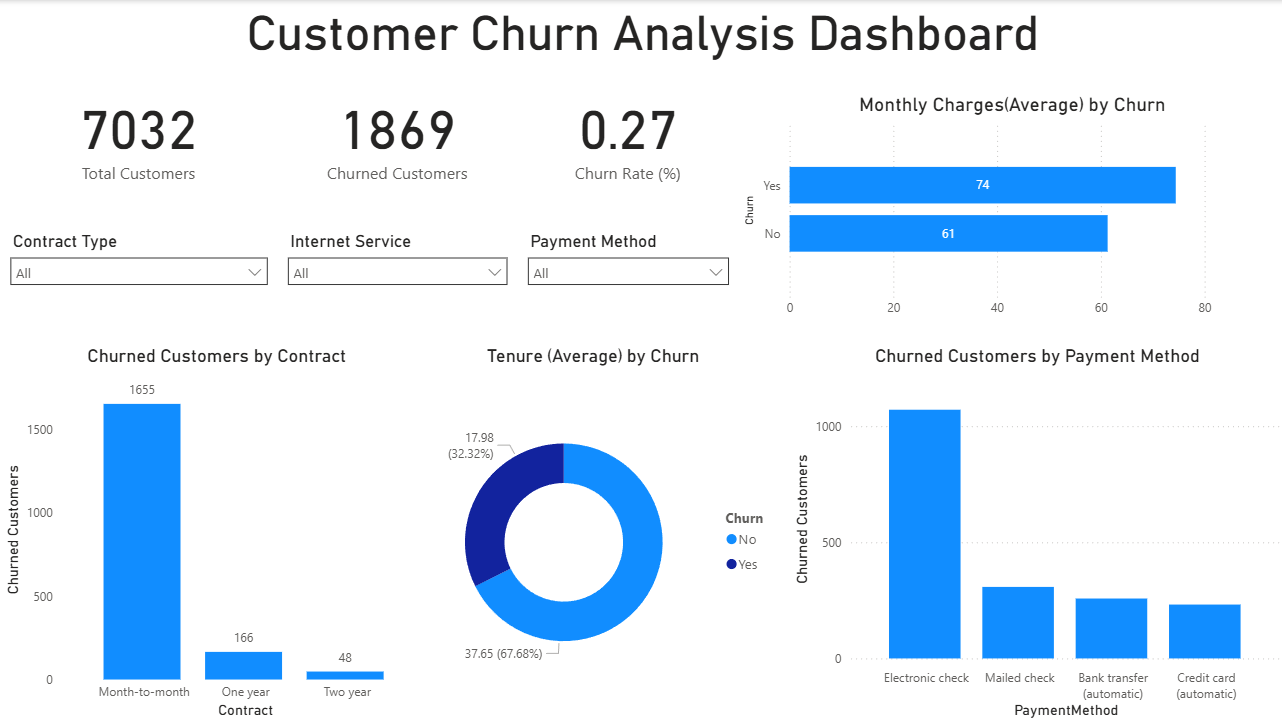

The page's visual inventory and layout, read from the dashboard file:
{"tool":"powerbi","page":{"name":"Page 1","canvas":[1280,720],"ordinal":0},"visuals":[{"type":"textbox","box":[0,0,1280,72.1],"z":0},{"type":"card","fields":{"Values":["Telco-Customer-Churn.Total Customers"]},"box":[0,72.1,276.2,123.2],"z":1},{"type":"card","fields":{"Values":["Telco-Customer-Churn.Churned Customers"]},"box":[276.2,72.1,238.8,123.2],"z":2},{"type":"card","fields":{"Values":["Telco-Customer-Churn.Churn Rate (%)"]},"box":[515,72.1,220.2,123.2],"z":3},{"type":"slicer","fields":{"Values":["Telco-Customer-Churn.Contract"]},"box":[0,225.2,276.2,99.5],"z":4},{"type":"slicer","fields":{"Values":["Telco-Customer-Churn.InternetService"]},"box":[276.2,225.2,238.8,99.5],"z":5},{"type":"clusteredColumnChart","fields":{"Y":["Telco-Customer-Churn.Churned Customers"],"Category":["Telco-Customer-Churn.Contract"]},"box":[0,343.3,431.7,376.9],"z":6},{"type":"clusteredBarChart","title":"Monthly Charges(Average) by Churn","fields":{"Category":["Telco-Customer-Churn.Churn"],"Y":["Avg(Telco-Customer-Churn.MonthlyCharges)"]},"box":[735.2,93.3,544.9,231.4],"z":8},{"type":"donutChart","title":"Tenure (Average) by Churn","fields":{"Category":["Telco-Customer-Churn.Churn"],"Y":["Avg(Telco-Customer-Churn.tenure)"]},"box":[395.6,343.3,389.4,376.9],"z":9},{"type":"clusteredColumnChart","title":"Churned Customers by Payment Method","fields":{"Category":["Telco-Customer-Churn.PaymentMethod"],"Y":["Telco-Customer-Churn.Churned Customers"]},"box":[784.9,343.3,495.1,376.9],"z":10},{"type":"slicer","fields":{"Values":["Telco-Customer-Churn.PaymentMethod"]},"box":[515,225.2,220.2,99.5],"z":11}]}

Visuals, with their boxes in screenshot pixels (x1, y1, x2, y2), scaled from the page's 1280x720 canvas onto the 1282x723 screenshot:
textbox: 0, 0, 1281, 72
card - Telco-Customer-Churn.Total Customers: 0, 72, 277, 196
card - Telco-Customer-Churn.Churned Customers: 277, 72, 516, 196
card - Telco-Customer-Churn.Churn Rate (%): 516, 72, 736, 196
slicer - Telco-Customer-Churn.Contract: 0, 226, 277, 326
slicer - Telco-Customer-Churn.InternetService: 277, 226, 516, 326
clusteredColumnChart - Telco-Customer-Churn.Churned Customers x Telco-Customer-Churn.Contract: 0, 345, 432, 722
"Monthly Charges(Average) by Churn" clusteredBarChart: 736, 94, 1281, 326
"Tenure (Average) by Churn" donutChart: 396, 345, 786, 722
"Churned Customers by Payment Method" clusteredColumnChart: 786, 345, 1281, 722
slicer - Telco-Customer-Churn.PaymentMethod: 516, 226, 736, 326
